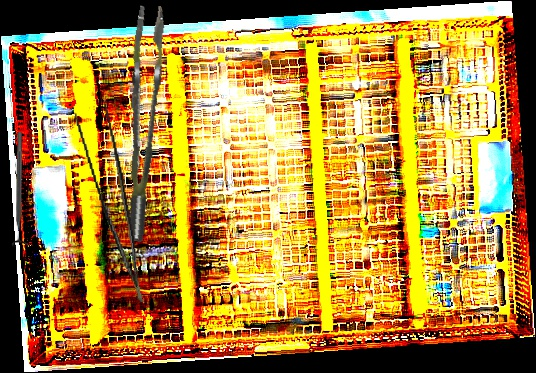Fixation Ring: (11, 132, 29, 247)
Tissue Forceps: (96, 2, 187, 243), (73, 98, 144, 308)
